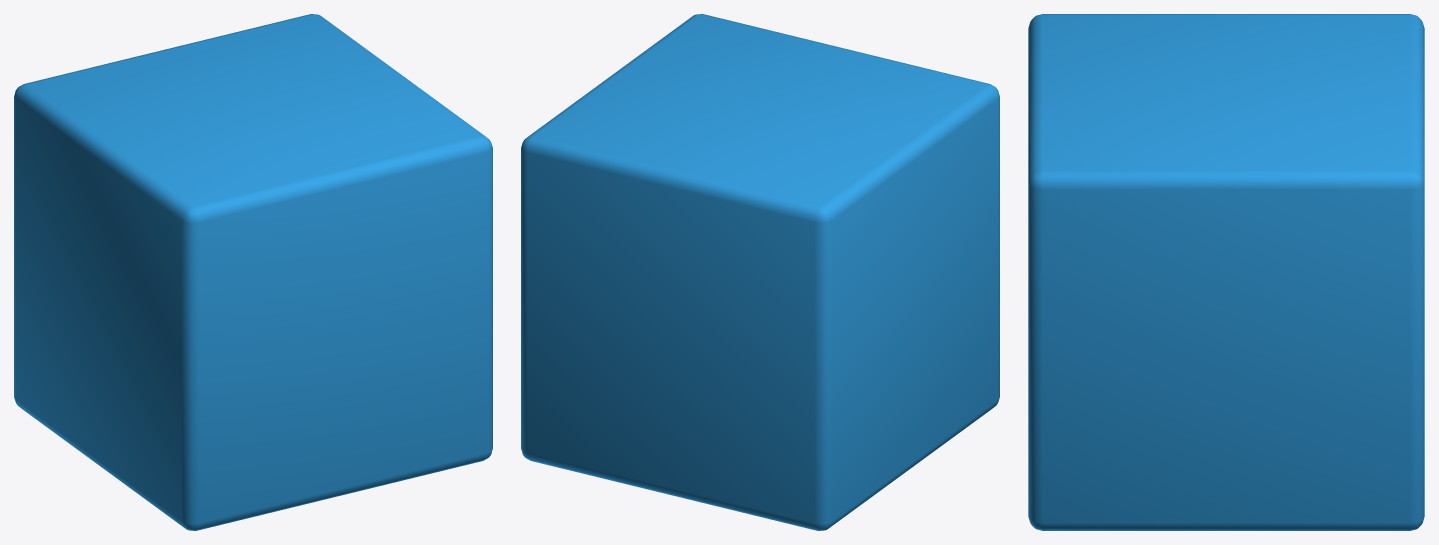
The model's file is simple_cube_anim.gltf.
3 renders of one model, left to right at view 1: azimuth 30°, elevation 25°; view 2: azimuth 150°, elevation 25°; view 3: azimuth 270°, elevation 25°, orthographic. The views are drawn at different scales.
Parts seen in each view (by area): view 1: Cube; view 2: Cube; view 3: Cube.
Boxes of the visible parts, left/top/right/bottom form: Cube: left=14, top=14, right=492, bottom=530; Cube: left=521, top=14, right=999, bottom=530; Cube: left=1028, top=14, right=1424, bottom=530.
Bounding box in the file's own units: 2 × 2 × 2.
